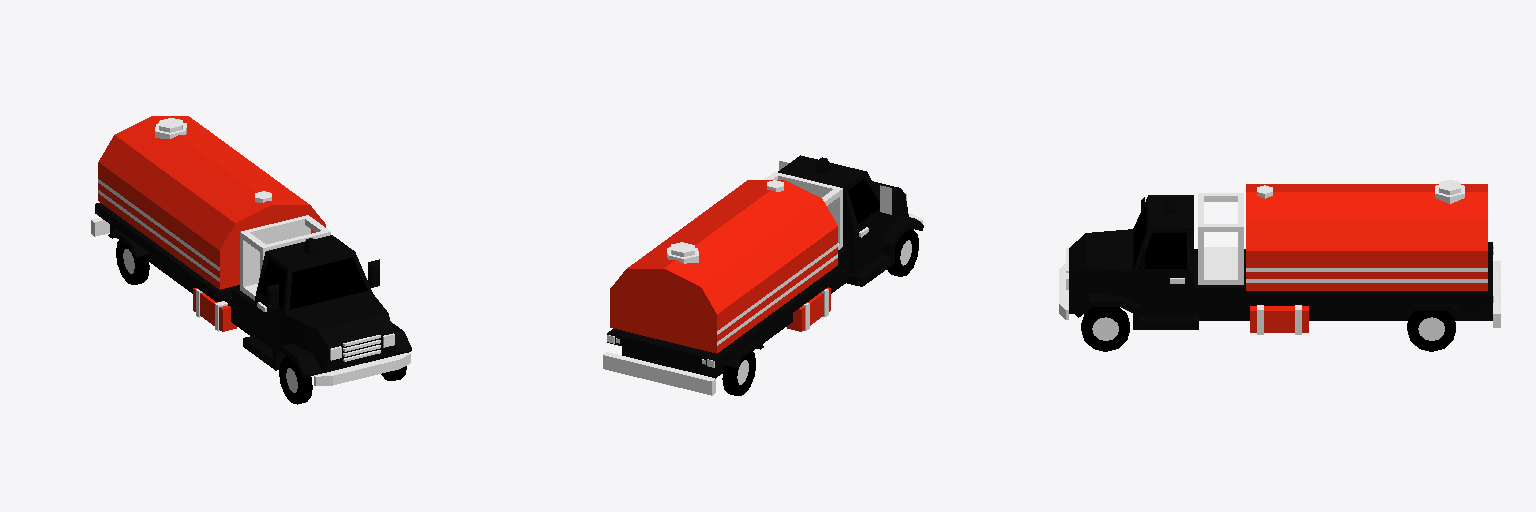
The model's file is car.3.obj.
3 renders of one model, left to right at view 1: azimuth 30°, elevation 25°; view 2: azimuth 150°, elevation 25°; view 3: azimuth 270°, elevation 25°, orthographic.
Visible parts, largest first — view 1: car4; view 2: car4; view 3: car4.
Part boxes in pixels (left/top/right/bottom): car4: left=91, top=116, right=411, bottom=404; car4: left=603, top=155, right=923, bottom=395; car4: left=1059, top=180, right=1500, bottom=351.
Size of the model in its own units: 1.79 by 2.1 by 5.95.